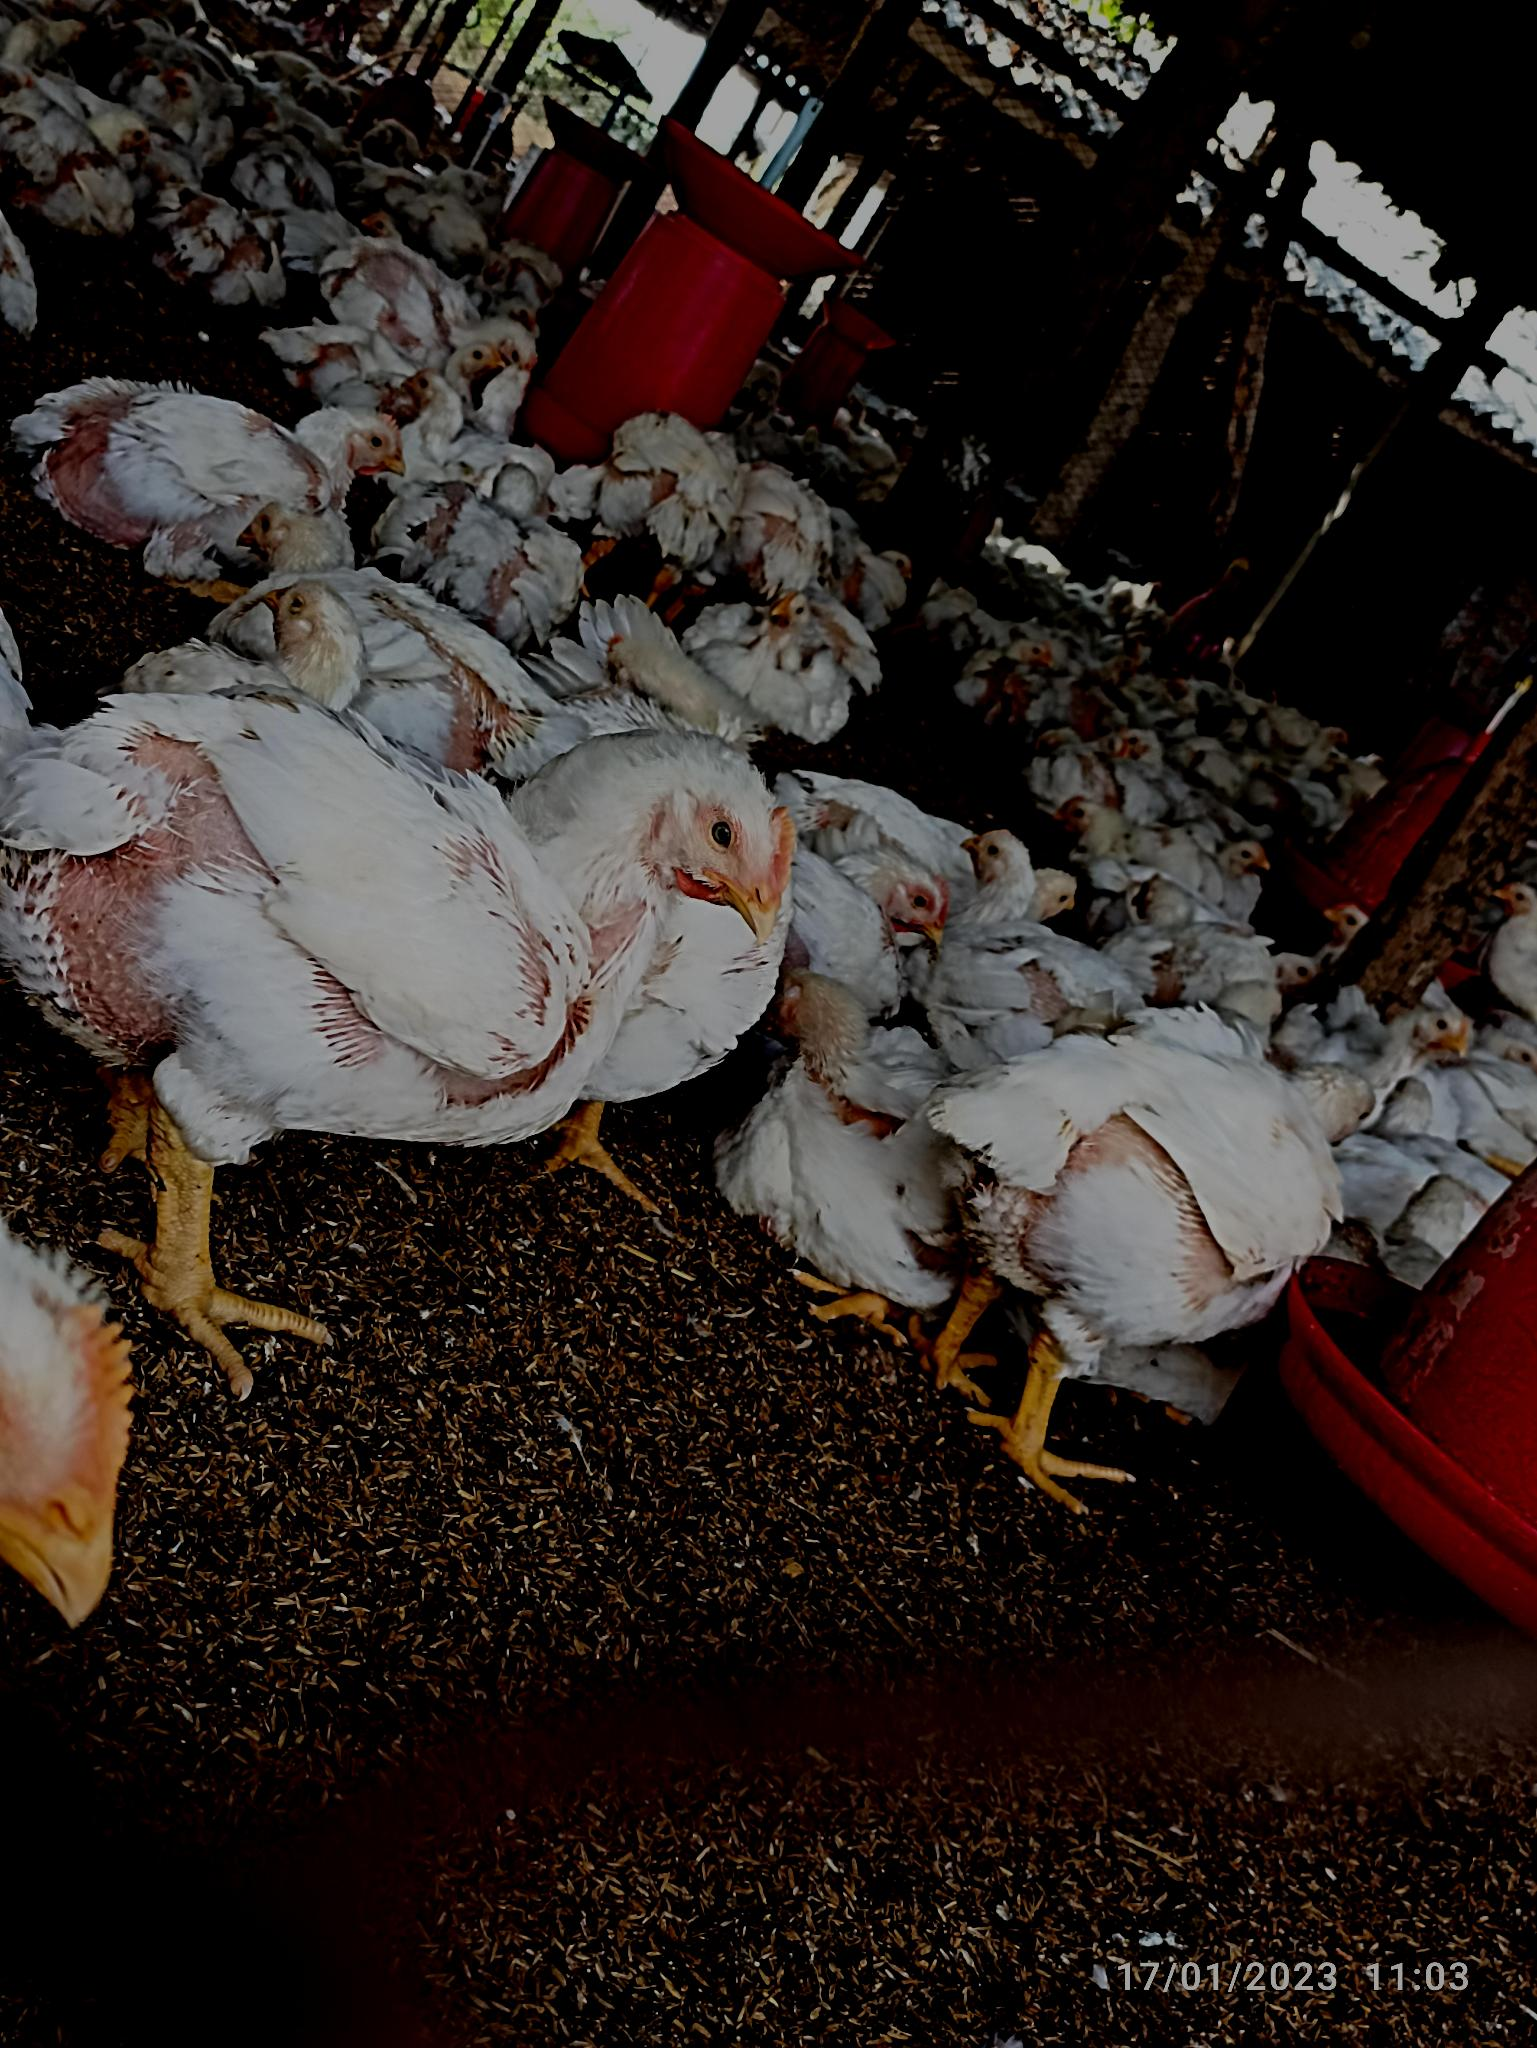Pollos: (39, 725, 802, 1085), (983, 1009, 1358, 1327), (32, 403, 400, 539), (943, 825, 1090, 1018), (709, 597, 859, 734), (1120, 834, 1280, 894)
